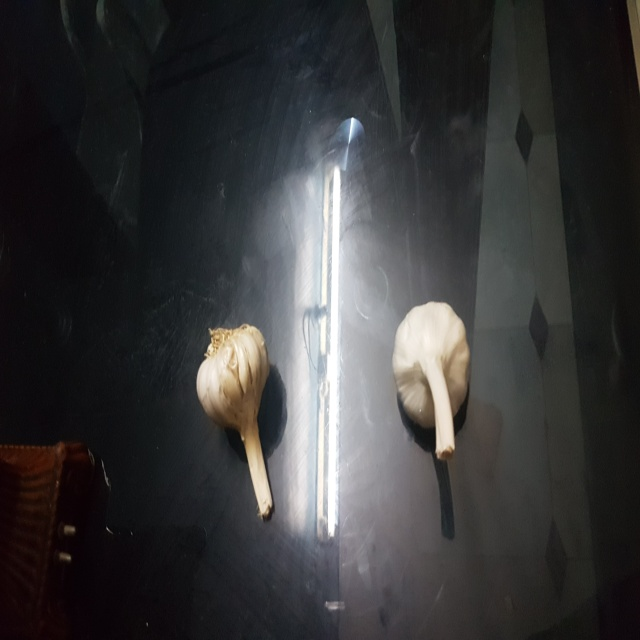garlic: (187, 322, 295, 523), (392, 296, 494, 465)
